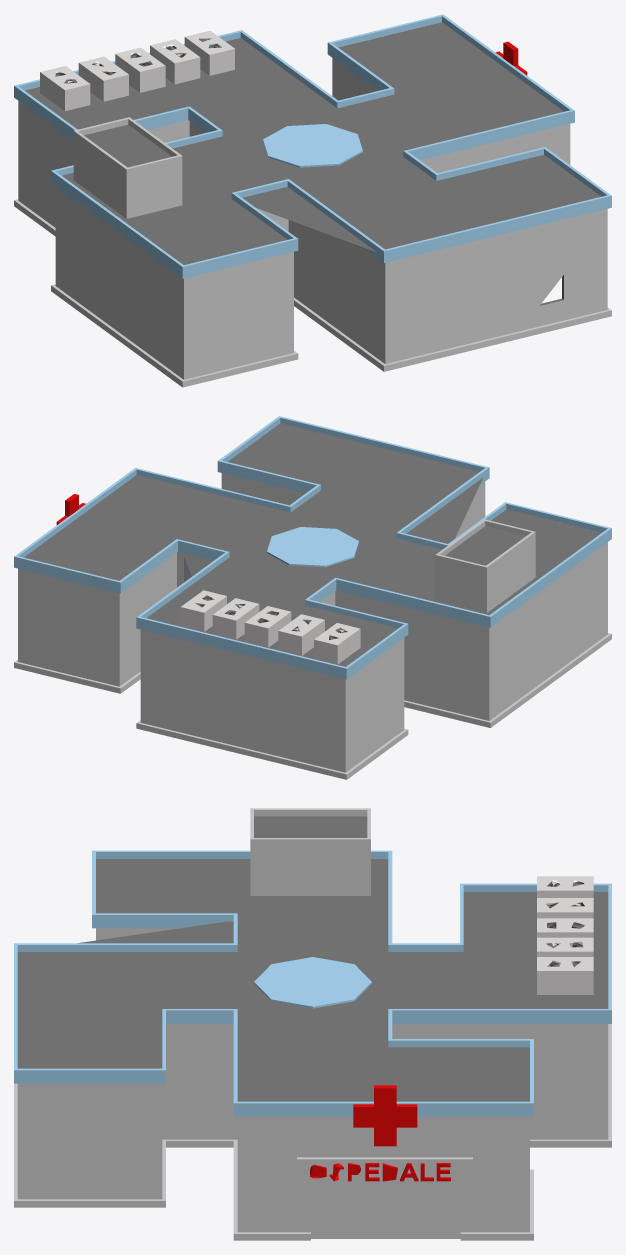
The model's file is hospital.glb.
3 views of the same model, one above another, from view 1: azimuth 30°, elevation 25°; view 2: azimuth 150°, elevation 25°; view 3: azimuth 270°, elevation 25° (orthographic). The views are drawn at different scales.
Visible parts, largest first — view 1: mesh_28, mesh_3, mesh_25, mesh_0; view 2: mesh_28, mesh_3, mesh_25, mesh_0; view 3: mesh_3, mesh_28, mesh_25, mesh_0, mesh_261.
Boxes of the visible parts, left/top/right/bottom form: mesh_28: left=14, top=58, right=611, bottom=387; mesh_3: left=25, top=22, right=600, bottom=305; mesh_25: left=14, top=14, right=611, bottom=278; mesh_0: left=40, top=30, right=234, bottom=110; mesh_28: left=14, top=473, right=611, bottom=779; mesh_3: left=24, top=423, right=601, bottom=666; mesh_25: left=14, top=416, right=611, bottom=679; mesh_0: left=180, top=590, right=360, bottom=664; mesh_3: left=17, top=816, right=608, bottom=1101; mesh_28: left=14, top=808, right=611, bottom=1240; mesh_25: left=14, top=850, right=611, bottom=1116; mesh_0: left=537, top=876, right=593, bottom=994; mesh_261: left=310, top=1085, right=450, bottom=1181.
Bounding box in the file's own units: 16.77 × 5.56 × 16.1.
